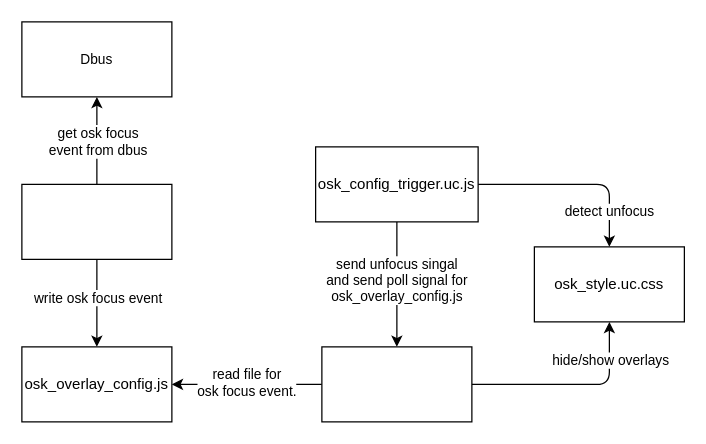
Image size: 706x444. Some labels were removed from this diagram. The shapes that lost their labels are listed below. From the top down, each one's box as (x1, y1, x2, y2) in pixels, then its label:
(21, 183, 172, 259): focus_monitor.py
(321, 346, 472, 422): osk_manager.sys.mjs
